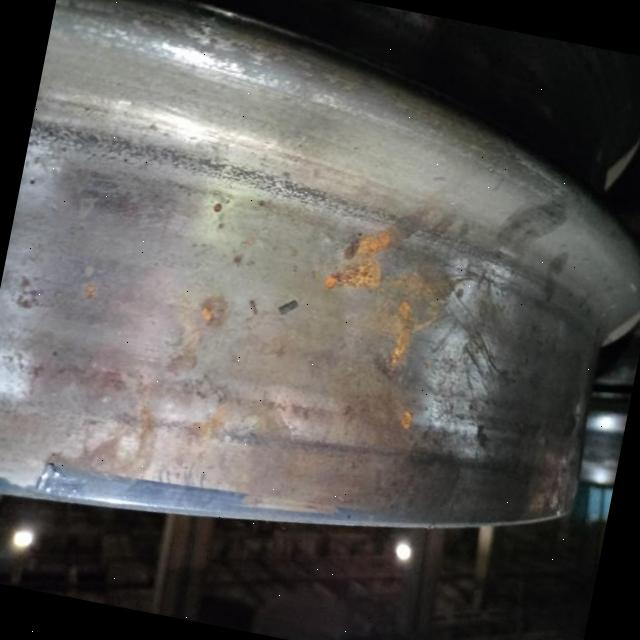Blue hole: (275, 294, 306, 330)
Contact_Fatigue_Cracks: (445, 258, 517, 414)
